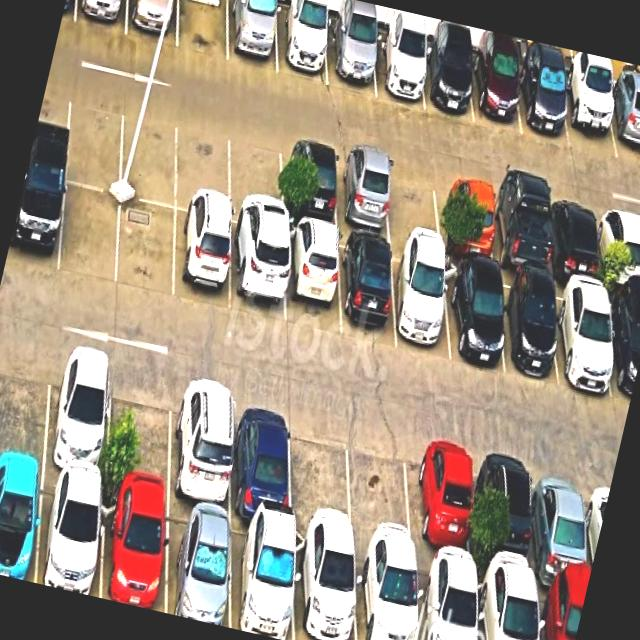empty: (106, 359, 173, 500), (349, 417, 415, 556), (291, 404, 352, 542), (0, 334, 52, 467), (120, 100, 180, 208), (59, 183, 120, 285), (65, 86, 123, 192), (117, 196, 175, 301), (175, 113, 229, 219), (229, 125, 281, 233), (385, 158, 441, 247), (177, 0, 227, 60)
occupied: (43, 344, 111, 484), (170, 374, 233, 514), (413, 429, 472, 569), (36, 472, 102, 597), (101, 487, 166, 613), (165, 502, 230, 628), (231, 389, 290, 525), (230, 517, 293, 640), (534, 455, 590, 591), (483, 443, 536, 581), (552, 278, 614, 395), (443, 260, 504, 373), (495, 270, 557, 380), (294, 530, 356, 640), (391, 246, 450, 360), (339, 233, 396, 344), (5, 168, 65, 273), (285, 222, 339, 335), (355, 547, 418, 640), (173, 210, 229, 311), (491, 182, 549, 276), (230, 224, 284, 324), (0, 463, 43, 582), (281, 137, 337, 228), (416, 558, 478, 640), (439, 171, 494, 261), (336, 148, 391, 237), (560, 72, 616, 158), (548, 193, 601, 281), (518, 59, 569, 146), (476, 570, 538, 640), (471, 49, 521, 133), (420, 42, 473, 121), (276, 4, 327, 85), (372, 30, 424, 109), (605, 288, 640, 404), (597, 203, 640, 289), (327, 20, 375, 95), (228, 0, 277, 73), (604, 81, 640, 164), (536, 582, 586, 640), (126, 0, 178, 46), (74, 0, 127, 34)
